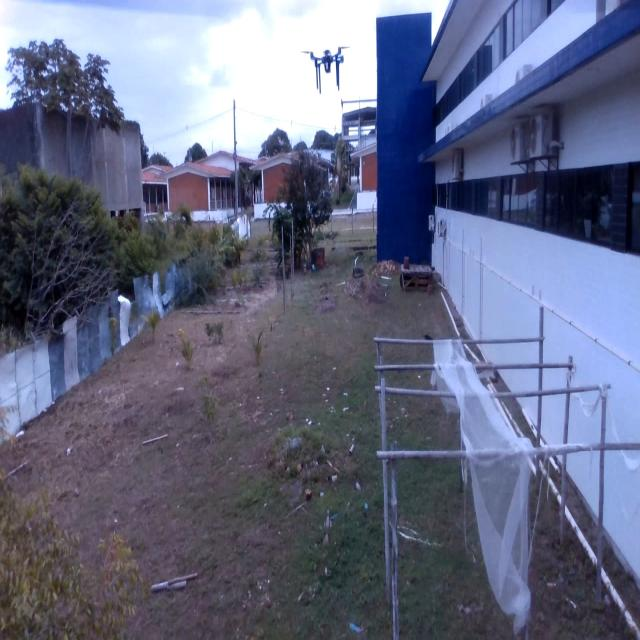-uav-: (298, 37, 352, 95)
